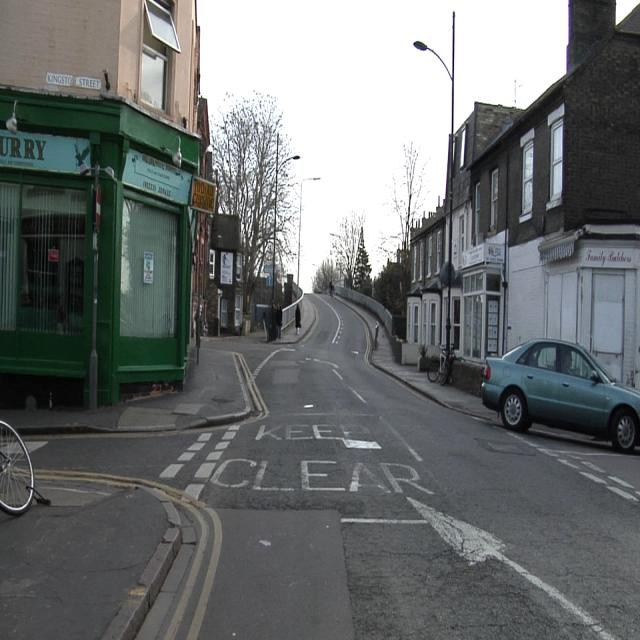Building: (410, 1, 639, 389), (1, 2, 216, 409)
Car: (482, 341, 639, 448)
Road: (32, 297, 632, 636)
Tree: (214, 92, 295, 304), (380, 139, 429, 262), (313, 209, 370, 291)
